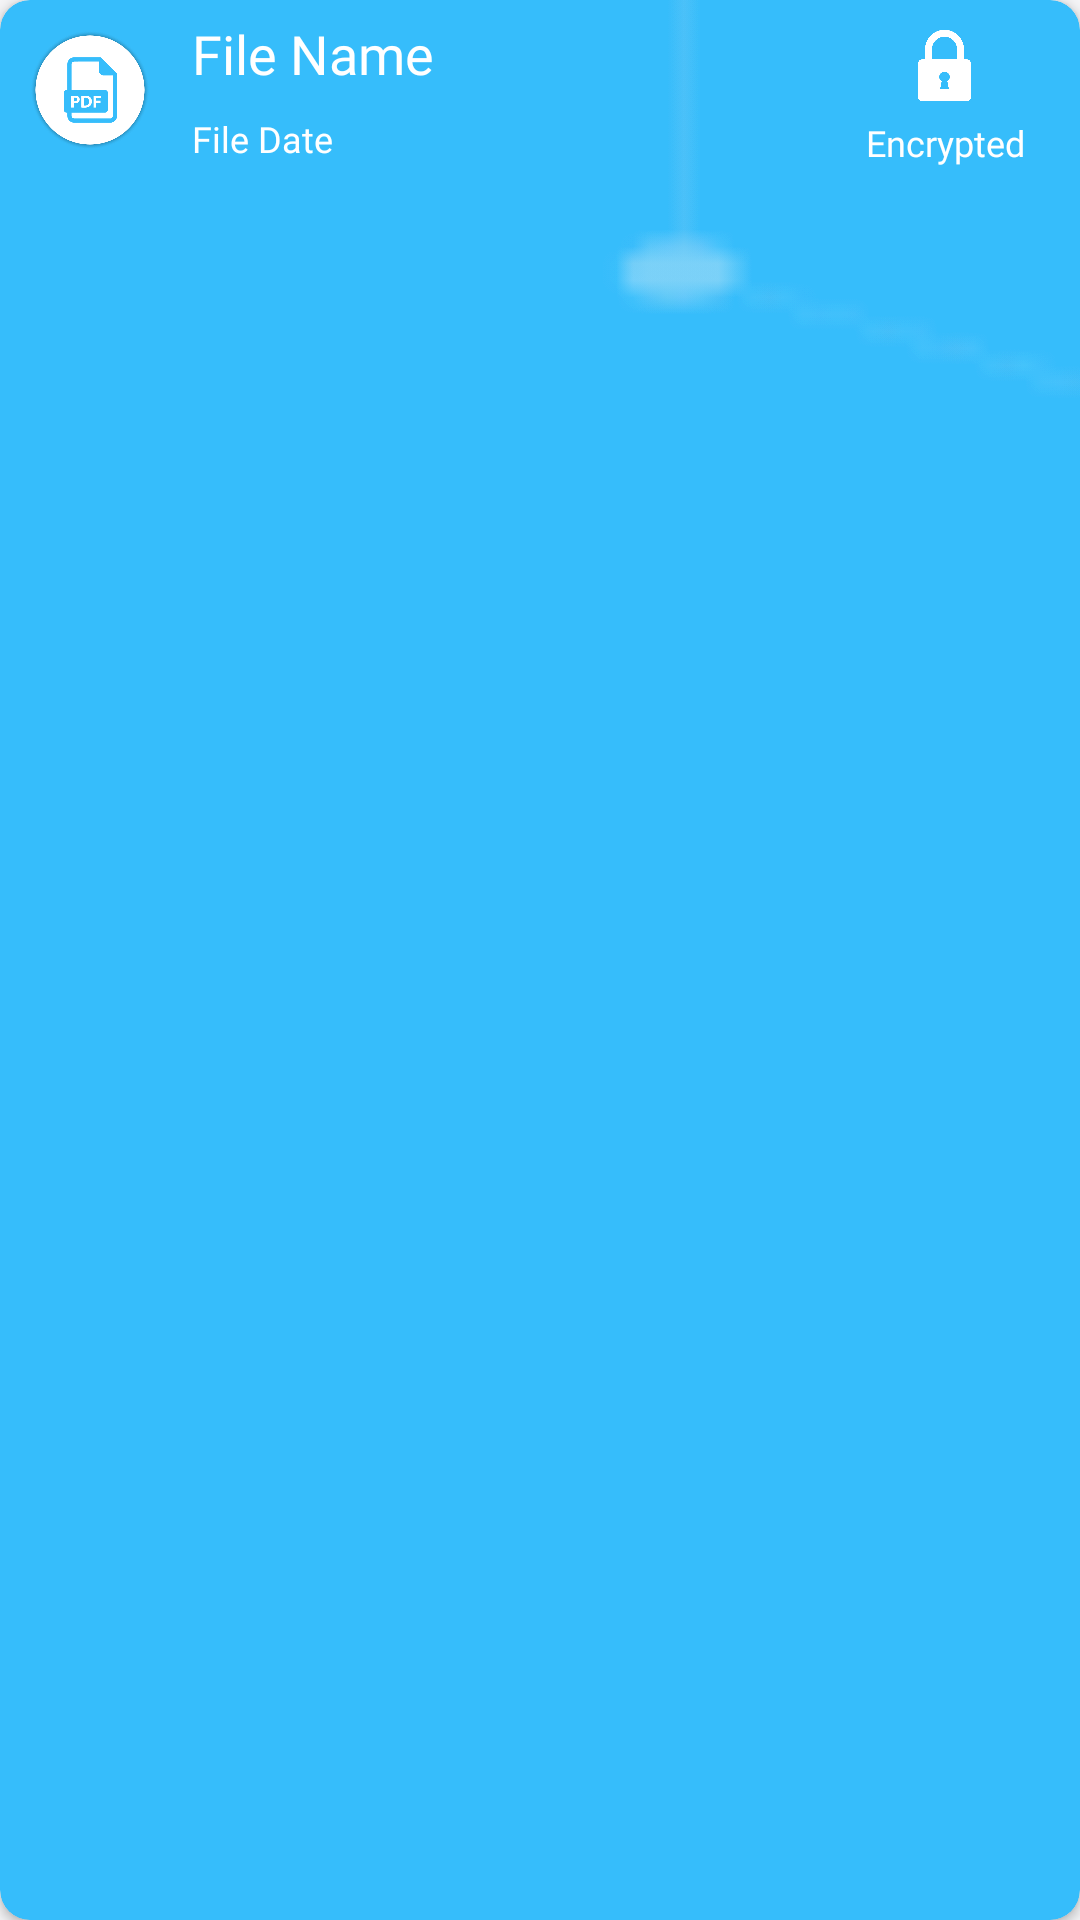

Screen size 1080 × 1920. Icon name, then its center in pixels as [x,y]:
lock: [944,65]
